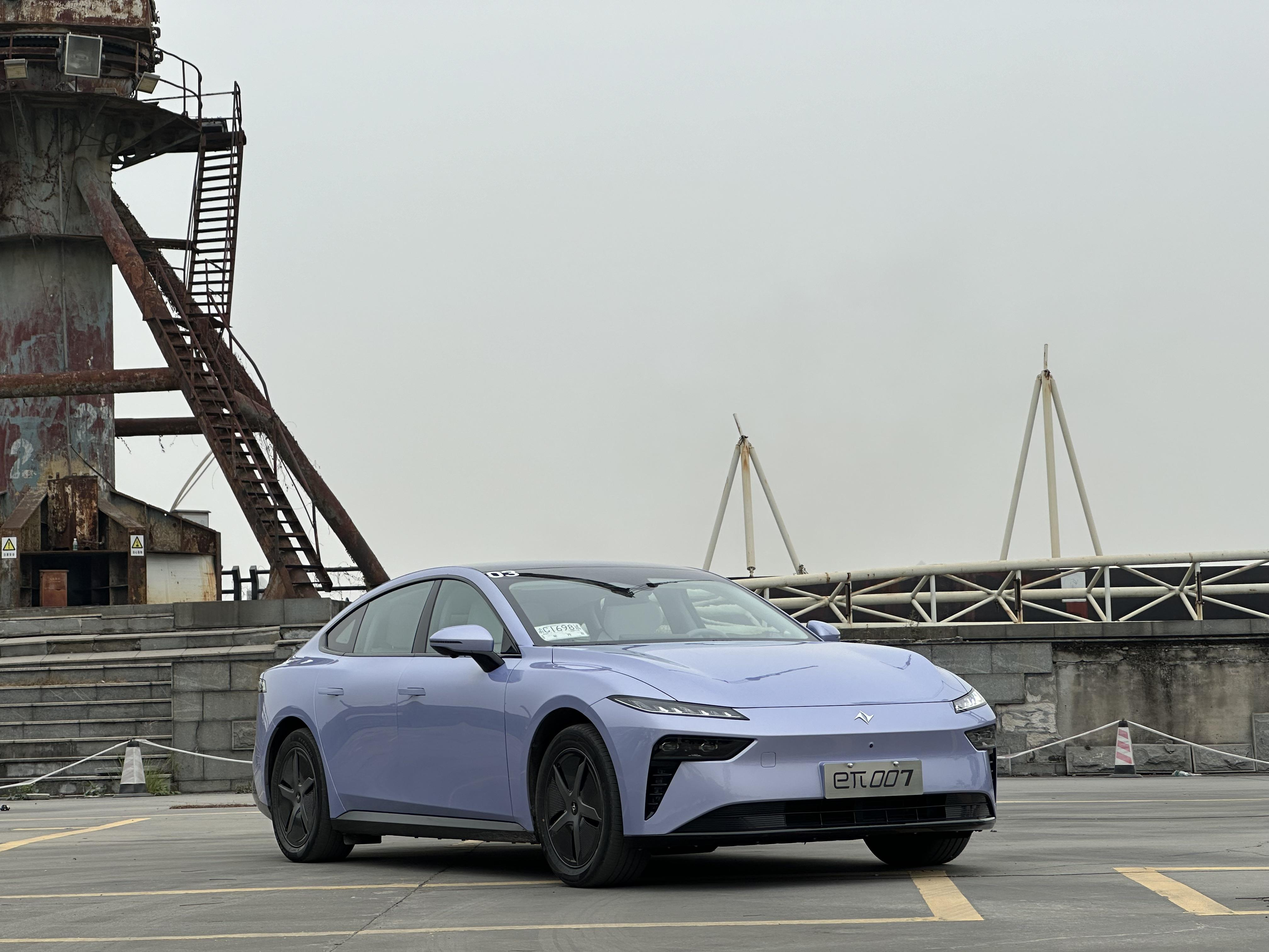other: (254, 551, 1005, 881)
